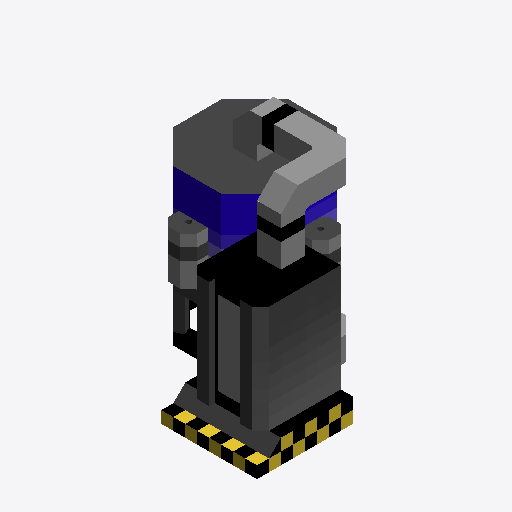
Isometric view (azimuth 45°, elevation 35.3°) of a Minecraft model made of 85 cuboids, textured from the same repository.
Parts seen in each view (by area): element 4, element 1, element 80, element 9, element 39, element 84, element 6, element 3, element 7, element 85, element 2, element 40 (+12 smaller).
Boxes of the visible parts, x1,y1,x2,y2 form: element 4: [198, 231, 340, 430]; element 1: [161, 403, 352, 478]; element 80: [250, 97, 344, 160]; element 9: [209, 275, 255, 416]; element 39: [173, 159, 231, 258]; element 84: [257, 201, 304, 268]; element 6: [197, 271, 216, 405]; element 3: [174, 383, 280, 457]; element 7: [252, 298, 268, 430]; element 85: [274, 150, 345, 206]; element 2: [185, 376, 352, 450]; element 40: [221, 184, 265, 250].
Size of the model in its own units: 15.83 by 16.42 by 16.